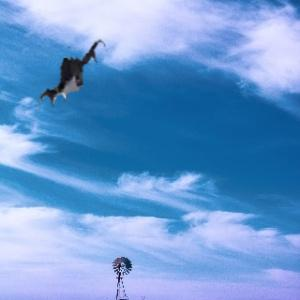drone: (28, 29, 117, 118)
